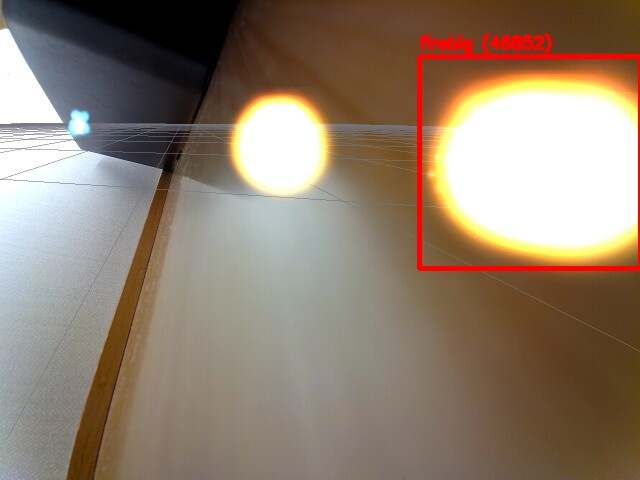firebig: (419, 56, 640, 268)
